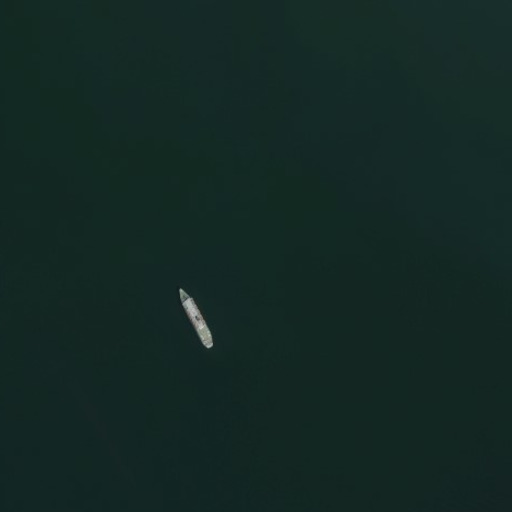ship: (174, 283, 218, 352)
